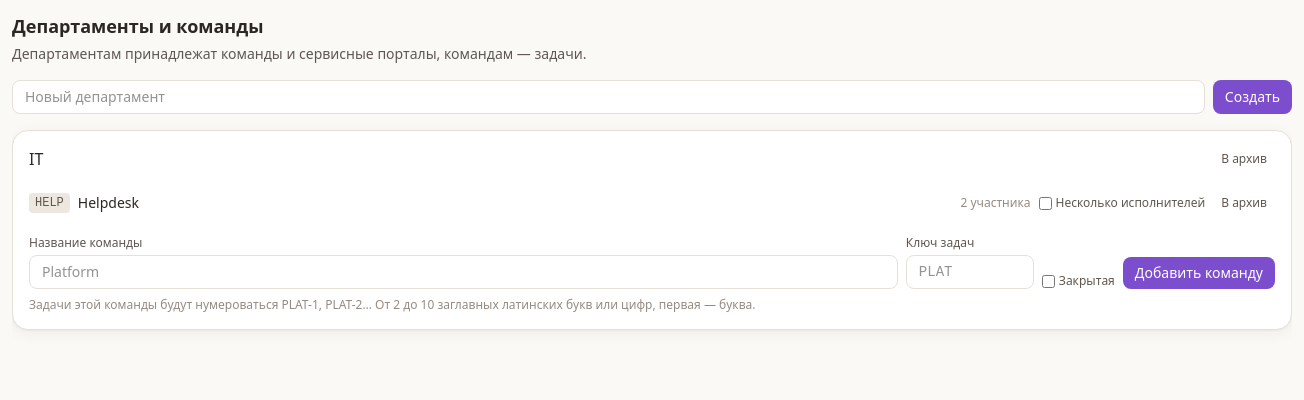
DepartmentsSection › shows translated server errors
Type "Copy" into the field labelled "Название команды" at (463, 272), box x1=29 y1=255 x2=898 y2=289
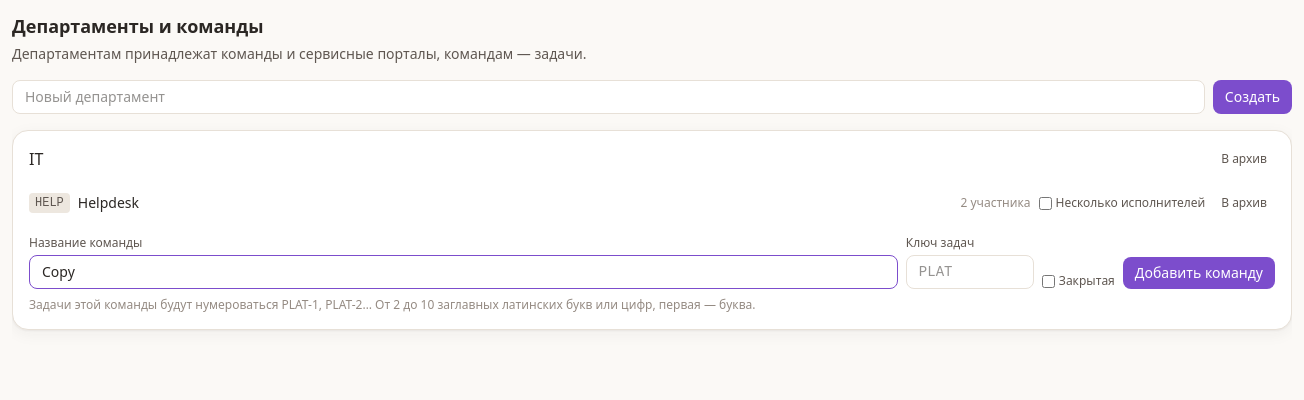
Type "help" into the field labelled "Ключ задач" at (970, 272), box x1=906 y1=255 x2=1034 y2=289
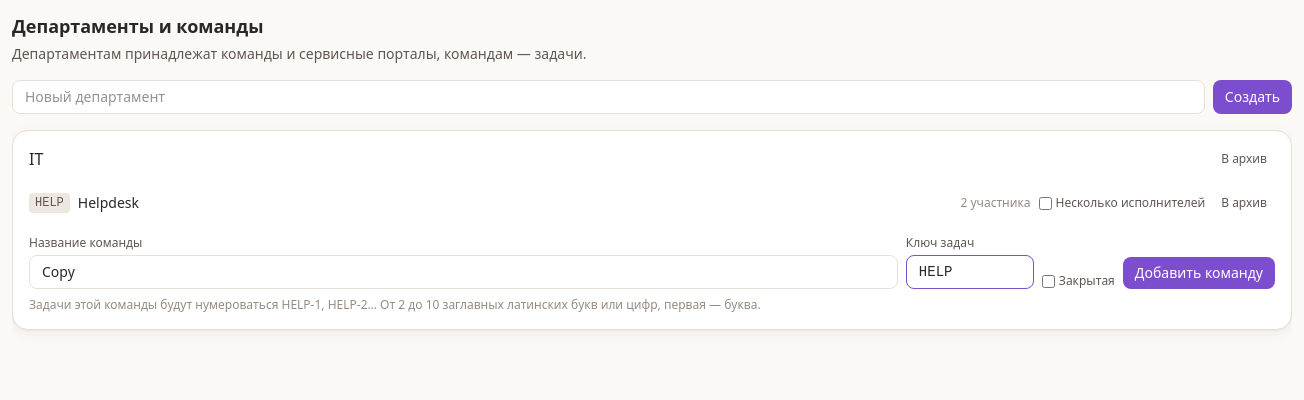
Check: the text "HELP-1, HELP-2" is shown, box x1=29 y1=296 x2=761 y2=313
Click the button "Добавить команду" at (1199, 273), box x1=1123 y1=257 x2=1275 y2=289
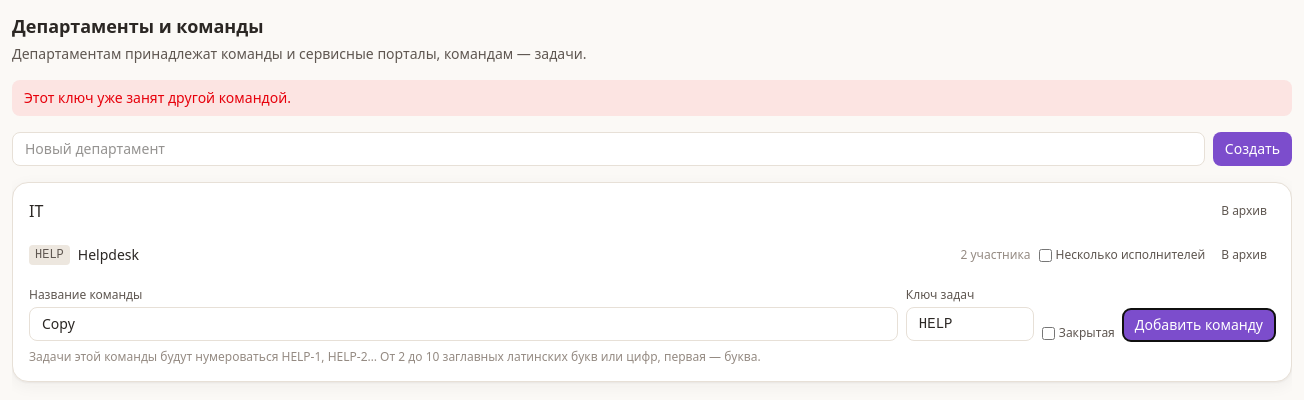
Check: the message reads "Этот ключ уже занят другой командой.", box x1=24 y1=88 x2=291 y2=107
